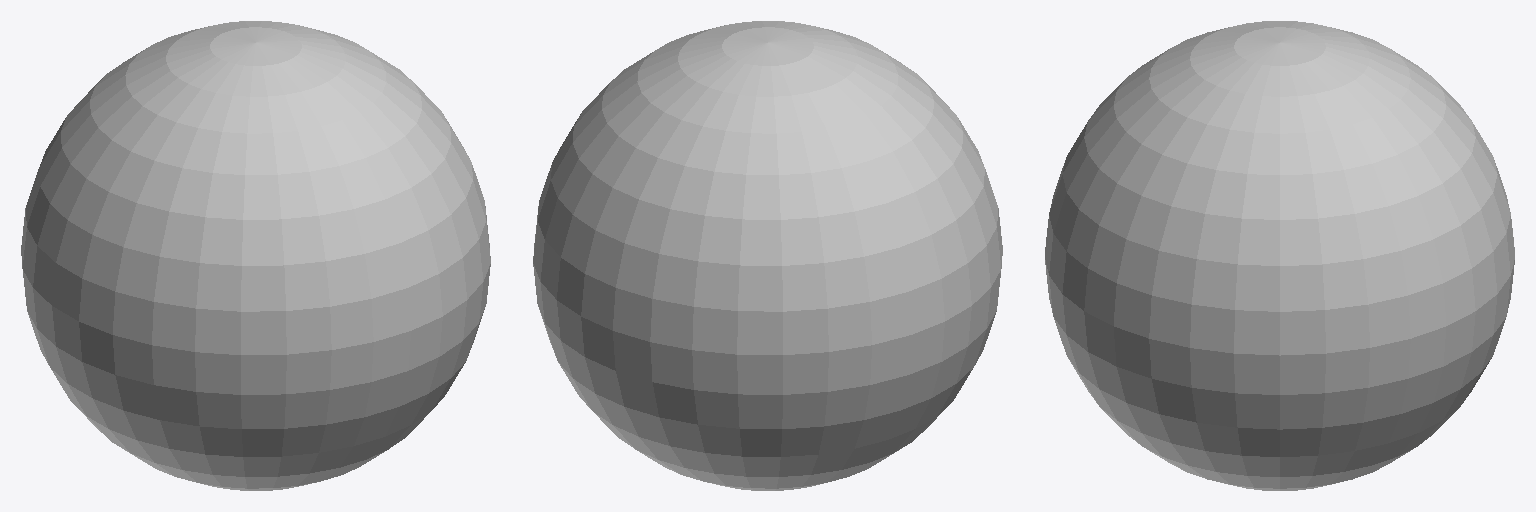
File: bullet.obj
The picture shows the model from 3 angles: view 1: azimuth 30°, elevation 25°; view 2: azimuth 150°, elevation 25°; view 3: azimuth 270°, elevation 25°; orthographic projection.
Parts seen in each view (by area): view 1: Sphere; view 2: Sphere; view 3: Sphere.
Boxes of the visible parts, x1,y1,x2,y2 form: Sphere: [21, 21, 490, 490]; Sphere: [533, 21, 1002, 490]; Sphere: [1045, 21, 1514, 490].
Size of the model in its own units: 0.5723 by 0.5723 by 0.5723.